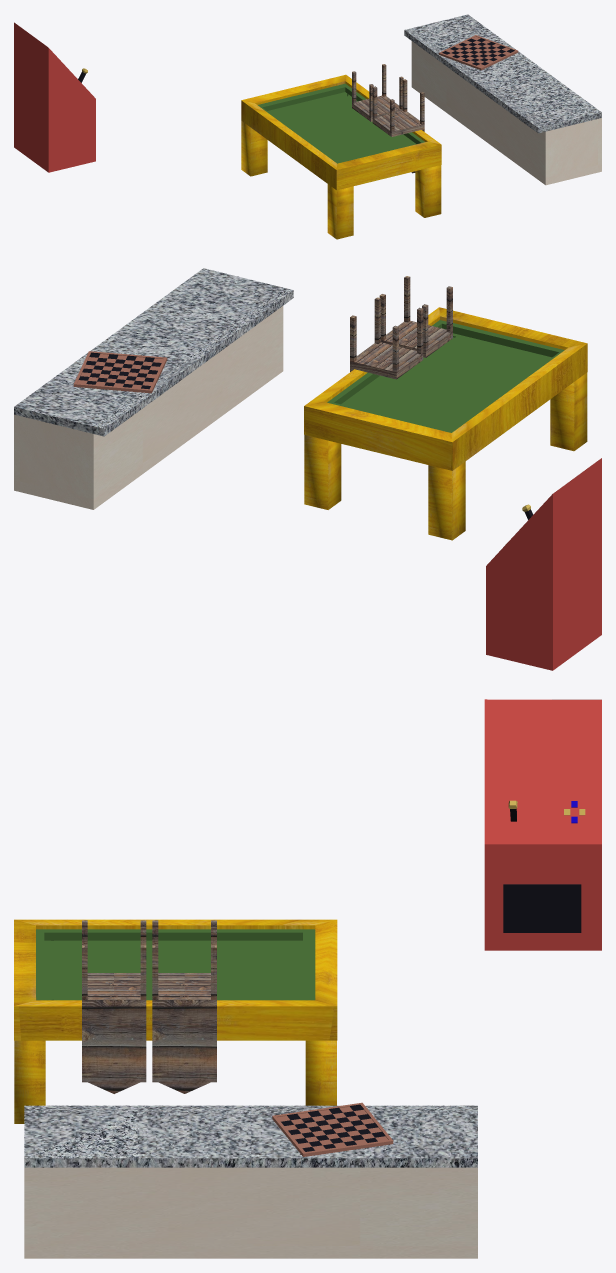
File: Itens_Sala_Jogos.fbx
The picture shows the model from 3 angles, top to bottom: view 1: azimuth 30°, elevation 25°; view 2: azimuth 150°, elevation 25°; view 3: azimuth 270°, elevation 25°; orthographic projection. The views are drawn at different scales.
Visible parts, largest first — view 1: Balcao.001, Sinuca, Jogo, Plane, Cadeira, Cadeira.001; view 2: Balcao.001, Sinuca, Jogo, Plane, Cadeira.001, Cadeira; view 3: Balcao.001, Sinuca, Jogo, Cadeira.001, Cadeira, Plane.
Part boxes in pixels (x1=…): Balcao.001: x1=404, y1=14, x2=601, y2=185; Sinuca: x1=241, y1=74, x2=441, y2=239; Jogo: x1=14, y1=22, x2=95, y2=172; Plane: x1=438, y1=35, x2=518, y2=70; Cadeira: x1=372, y1=79, x2=424, y2=173; Cadeira.001: x1=352, y1=64, x2=403, y2=121; Balcao.001: x1=14, y1=268, x2=293, y2=509; Sinuca: x1=304, y1=307, x2=587, y2=540; Jogo: x1=486, y1=458, x2=601, y2=670; Plane: x1=73, y1=351, x2=167, y2=393; Cadeira.001: x1=350, y1=297, x2=423, y2=379; Cadeira: x1=379, y1=276, x2=452, y2=357; Balcao.001: x1=24, y1=1105, x2=477, y2=1258; Sinuca: x1=14, y1=919, x2=337, y2=1123; Jogo: x1=484, y1=699, x2=601, y2=950; Cadeira.001: x1=152, y1=920, x2=216, y2=1093; Cadeira: x1=82, y1=920, x2=146, y2=1093; Plane: x1=272, y1=1102, x2=393, y2=1156.
Size of the model in its own units: 679 by 197 by 489.
